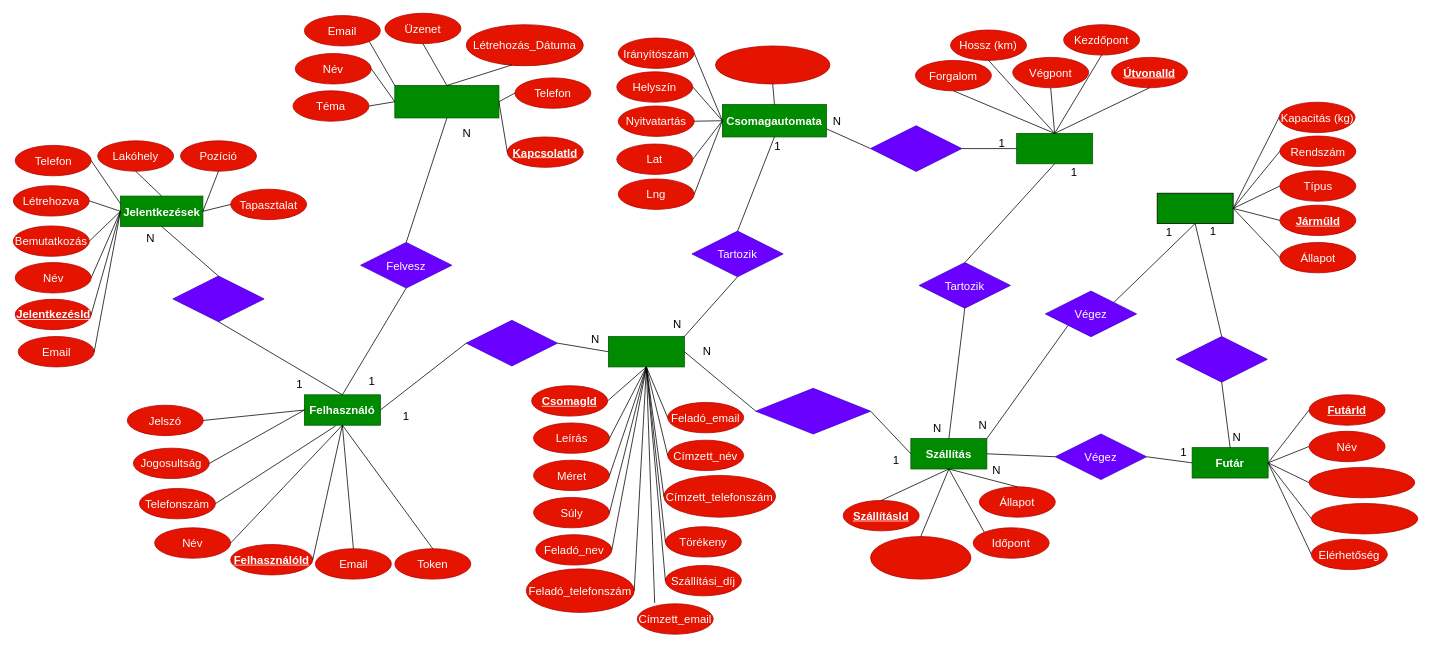
Image size: 1431x648. Some labels were removed from this diagram. The centre of each missing label's shape, as x and y in pixels:
Csomag: (646,351)
CsomagautomataId: (772,64)
Jelentkezik: (218,298)
JogosítványTípus: (1361,482)
Jármű: (1194,208)
Kapcsolat: (446,101)
Kerül: (916,148)
Kiszállításra kerül: (813,411)
Munka kezdése (év): (1364,518)
Rendel: (511,343)
Vezet: (1221,359)
Várható_Érkezés: (920,557)
Útvonal: (1054,148)
